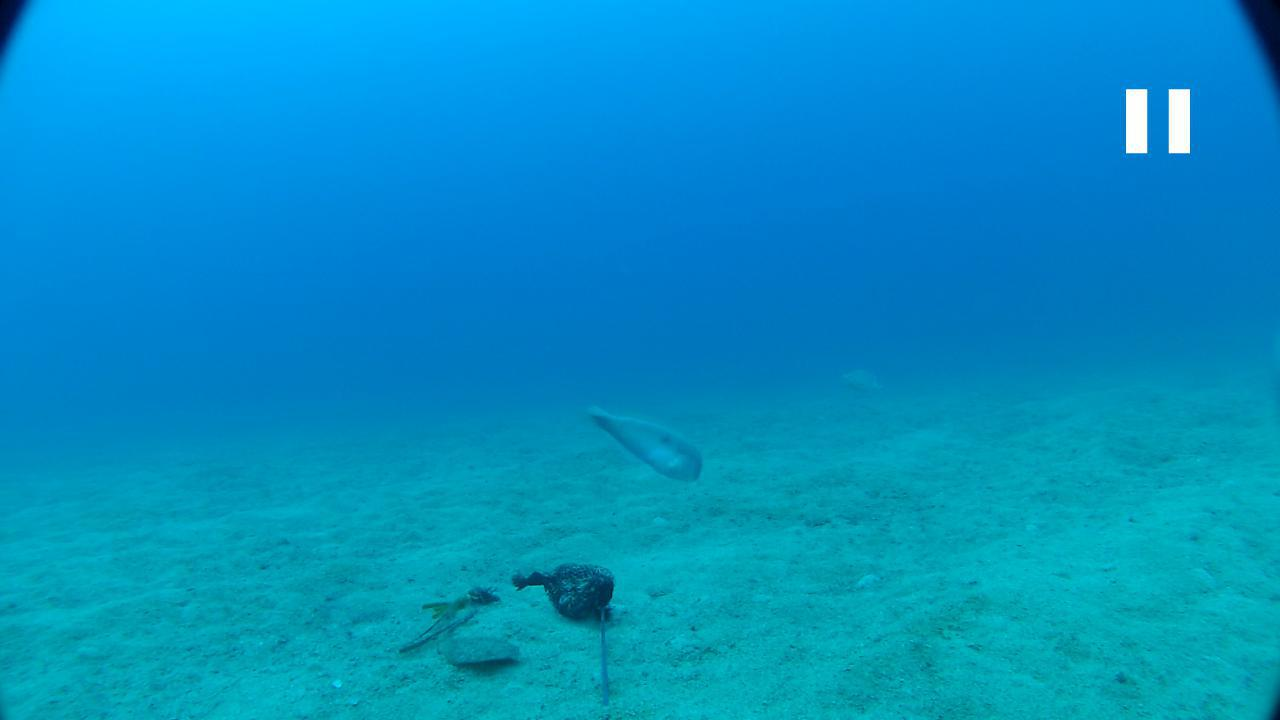bothus: (441, 633, 522, 666)
raor: (582, 401, 708, 487), (834, 368, 884, 396)
